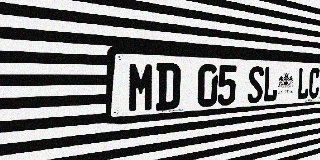0: (197, 64, 218, 108)
5: (217, 65, 237, 106)
C: (308, 68, 320, 99)
D: (155, 63, 181, 111)
L: (263, 66, 278, 102), (297, 67, 310, 100)
M: (127, 62, 155, 113)
S: (247, 66, 264, 104)
